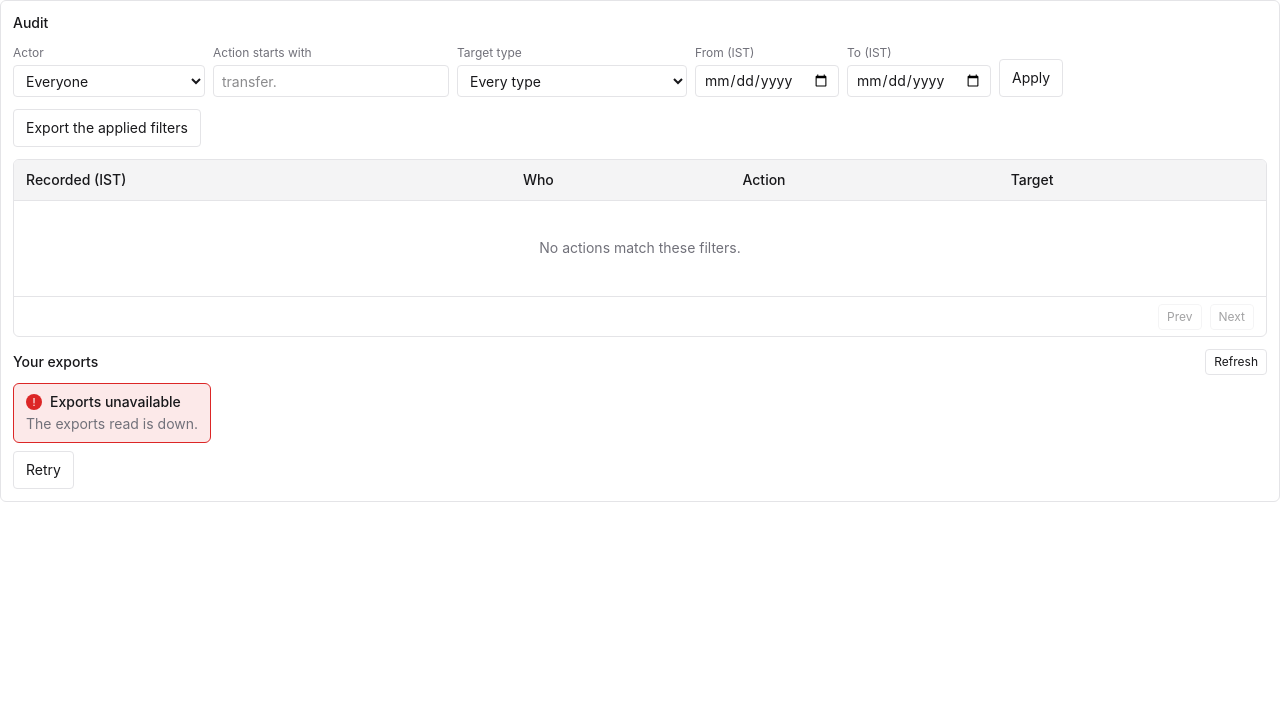
Your exports (9-3b) › the #audit-exports anchor is rendered while loading and when the read failed; the empty state reads "No exports yet"
Check: the element with id "audit-exports" is shown, box left=13, top=349, right=1267, bottom=489
Check: the element with id "audit-exports" shows "The exports read is down.", box left=26, top=415, right=198, bottom=432
Click the button "Retry" at (43, 470), box left=13, top=451, right=74, bottom=489
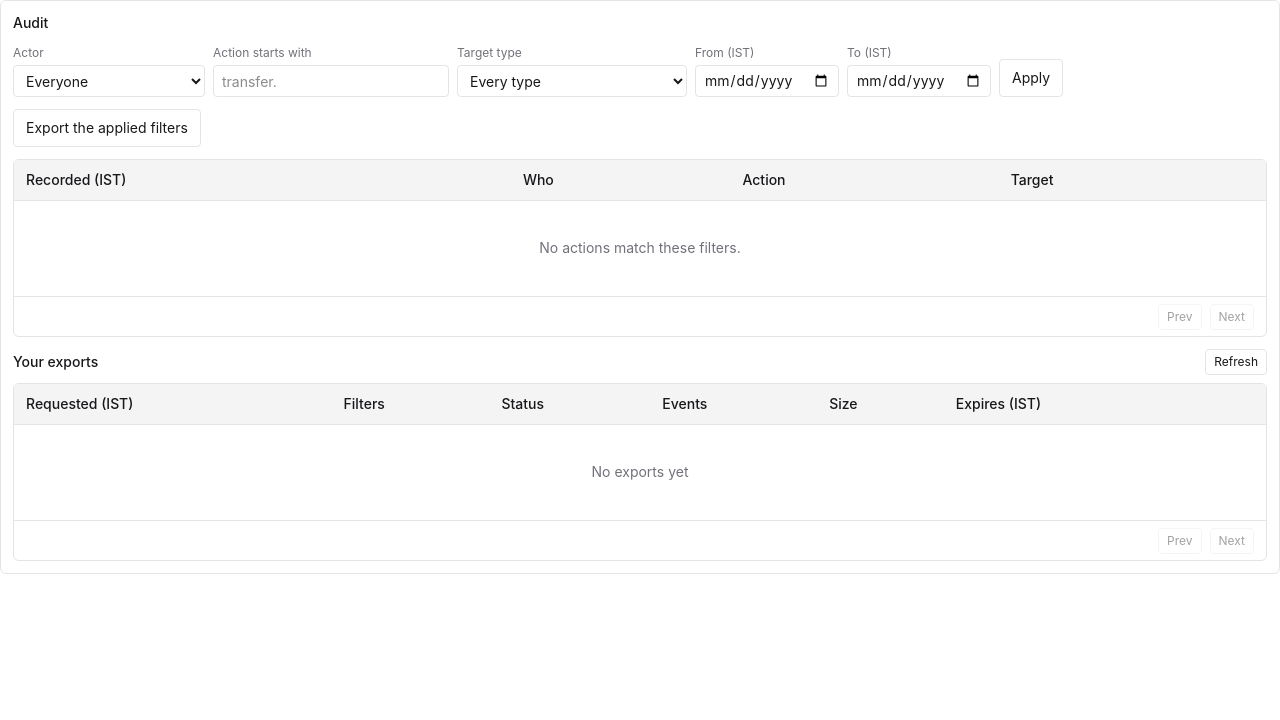
Check: the element with id "audit-exports" shows "No exports yet", box left=592, top=463, right=688, bottom=480
